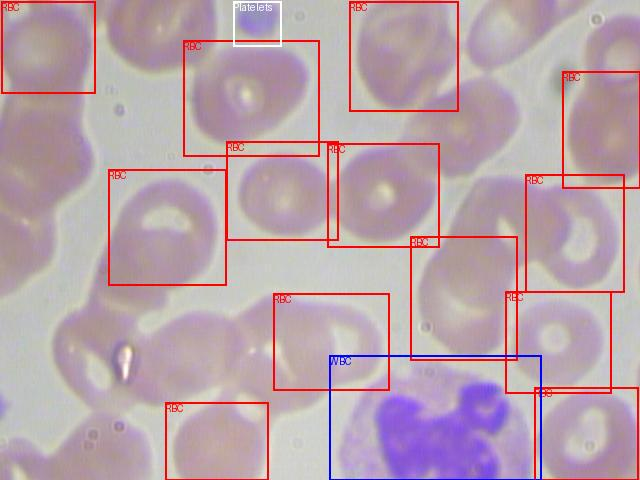Platelets: (233, 1, 281, 46)
RBC: (183, 40, 319, 156), (108, 169, 226, 285), (410, 236, 517, 360), (349, 1, 458, 111), (525, 174, 624, 292), (327, 143, 439, 247), (273, 293, 389, 390), (226, 141, 338, 240), (505, 291, 611, 393), (534, 387, 638, 480), (562, 71, 640, 188), (1, 1, 95, 93), (165, 402, 268, 480)
WBC: (329, 355, 541, 480)
